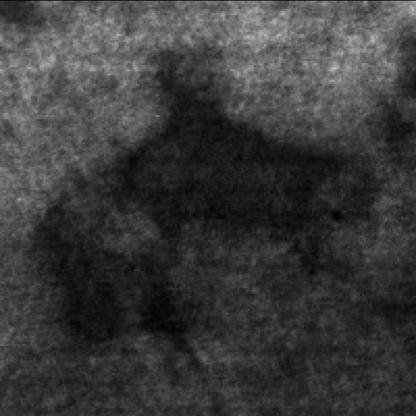patches: (100, 66, 393, 276), (31, 187, 154, 364)
